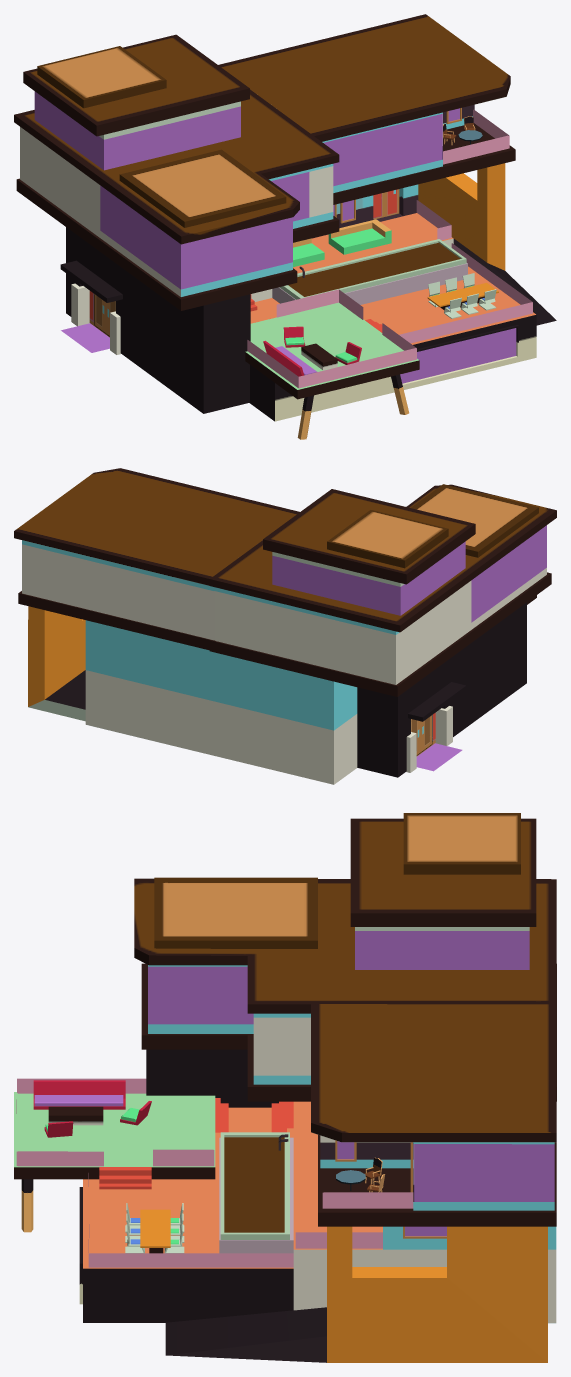
Rendered from Tx_Building_PH_7.fbx.
3 renders of one model, top to bottom at view 1: azimuth 30°, elevation 25°; view 2: azimuth 150°, elevation 25°; view 3: azimuth 270°, elevation 25°, orthographic. The views are drawn at different scales.
Parts seen in each view (by area): view 1: Building, swimming_pool, chair_table_set_right, sofa3, sofa4, sofa, table1; view 2: Building; view 3: Building, swimming_pool, sofa4, chair_table_set_right, table1.
Boxes of the visible parts, x1=… form: Building: x1=14, y1=14, x2=556, y2=439; swimming_pool: x1=279, y1=239, x2=466, y2=299; chair_table_set_right: x1=427, y1=273, x2=498, y2=318; sofa3: x1=328, y1=219, x2=391, y2=254; sofa4: x1=263, y1=340, x2=316, y2=376; sofa: x1=293, y1=238, x2=324, y2=267; table1: x1=301, y1=343, x2=337, y2=370; Building: x1=14, y1=468, x2=556, y2=784; Building: x1=14, y1=813, x2=556, y2=1362; swimming_pool: x1=220, y1=1132, x2=289, y2=1239; sofa4: x1=33, y1=1080, x2=125, y2=1109; chair_table_set_right: x1=125, y1=1203, x2=184, y2=1253; table1: x1=48, y1=1106, x2=103, y2=1125.
Size of the model in its own units: 59.75 by 34.11 by 54.
